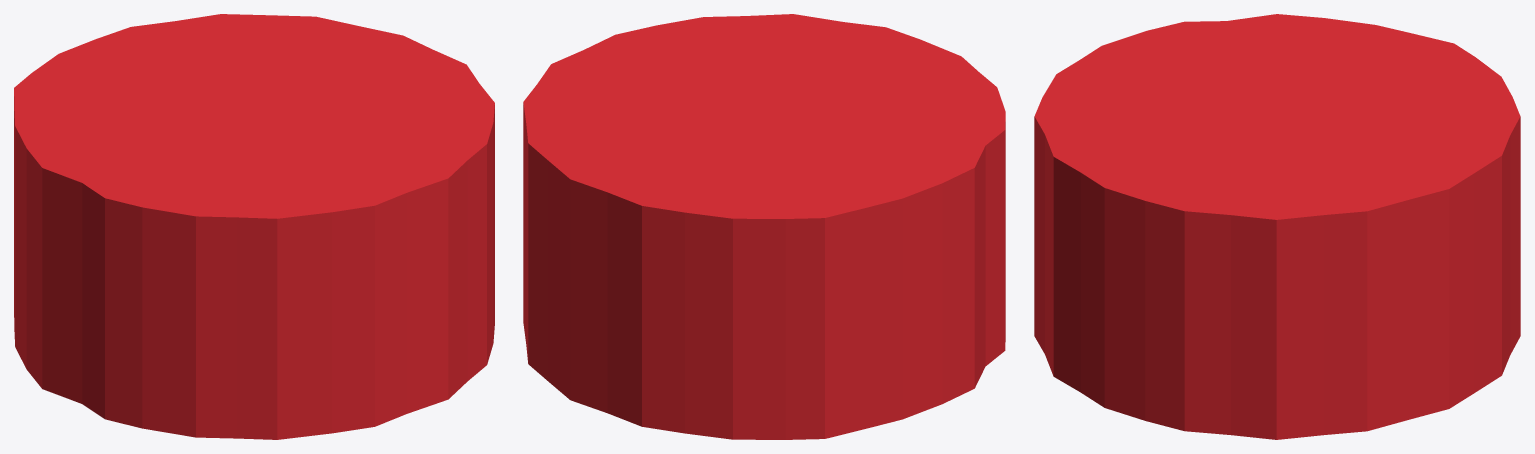
The model's file is baseMed.fbx.
The picture shows the model from 3 angles, left to right: view 1: azimuth 30°, elevation 25°; view 2: azimuth 150°, elevation 25°; view 3: azimuth 270°, elevation 25°; orthographic projection.
Parts seen in each view (by area): view 1: Circle.001; view 2: Circle.001; view 3: Circle.001.
Boxes of the visible parts, <box> form: Circle.001: <box>14,14,494,439</box>; Circle.001: <box>523,14,1005,439</box>; Circle.001: <box>1034,14,1520,439</box>.
Bounding box in the file's own units: 201 × 99.9 × 200.
